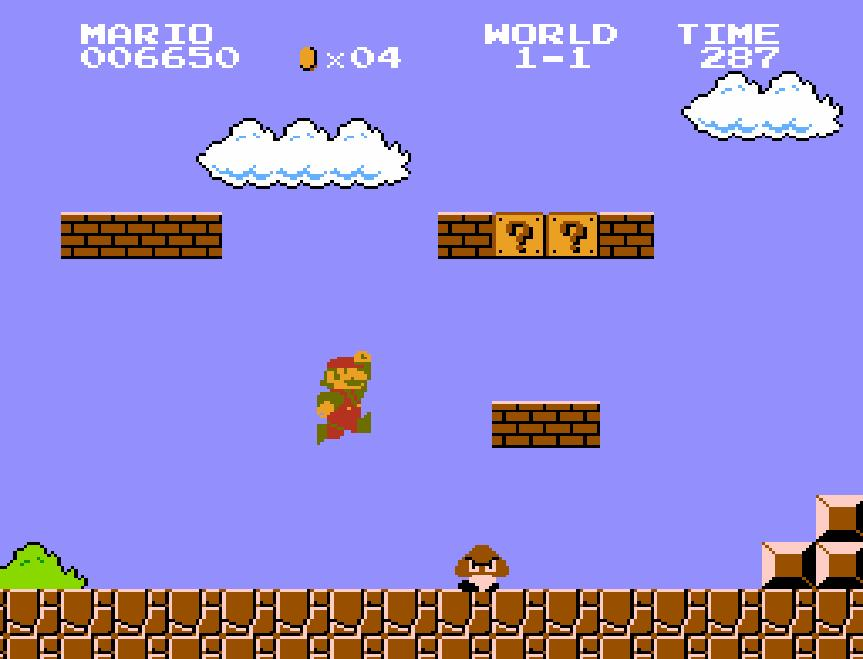big_mario: (314, 348, 372, 446)
